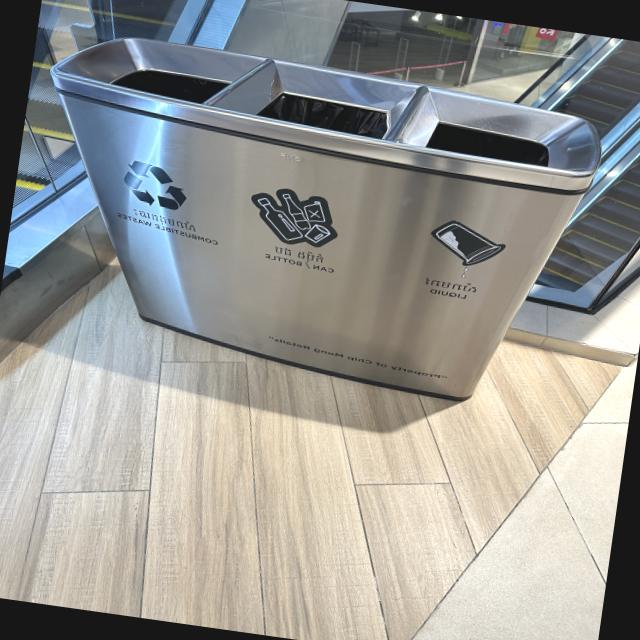1: (270, 241, 334, 268)
Yolov11kh: (128, 205, 201, 235), (419, 272, 488, 298)
